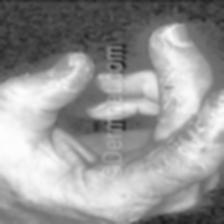Non-Cancerous Skin Condition: (132, 92, 224, 187), (146, 19, 212, 140), (0, 51, 95, 111), (41, 185, 162, 223)
